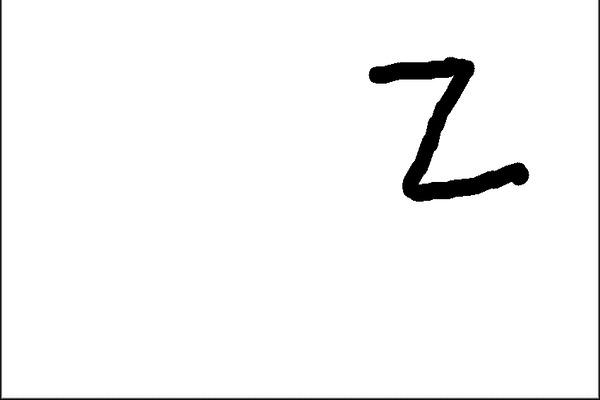Z: (362, 50, 535, 216)
